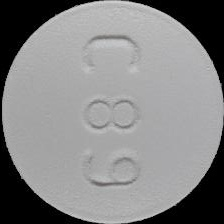43063-676: (0, 0, 224, 224)
